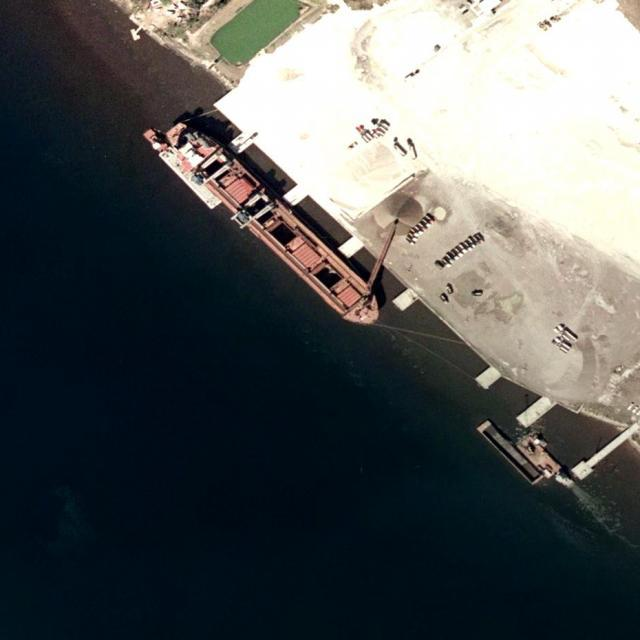Cargo: (136, 98, 392, 345)
